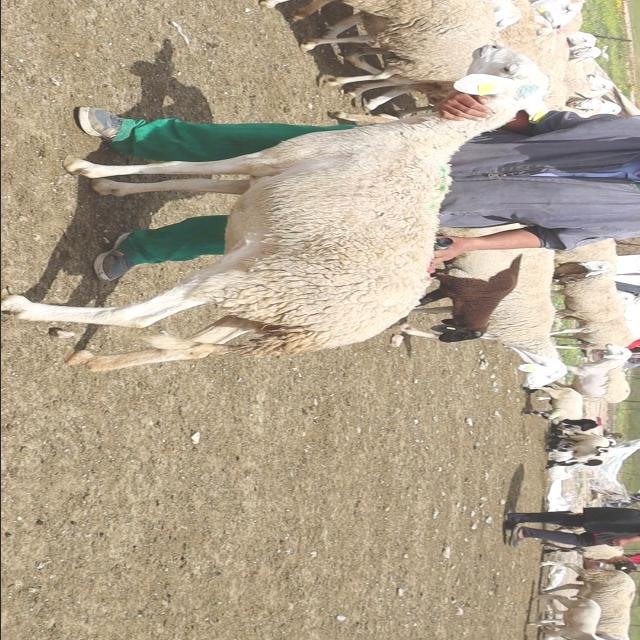Score_3: (1, 45, 547, 371)
